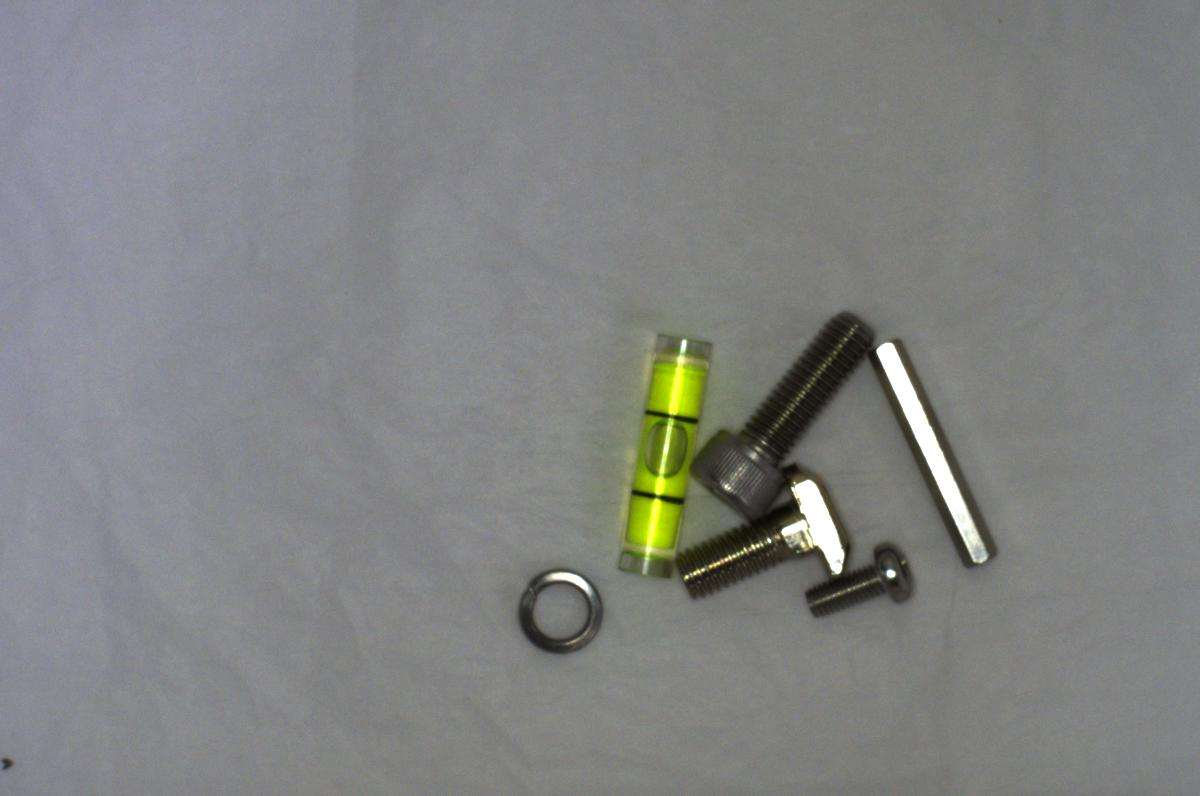Double hexagonal column: (873, 329, 999, 575)
Hexagon screw: (682, 305, 879, 516)
Horizontal bubble: (602, 329, 699, 578)
Round head screw: (798, 539, 925, 620)
Spring washer: (512, 560, 607, 656)
T-shaped screw: (670, 467, 850, 594)
